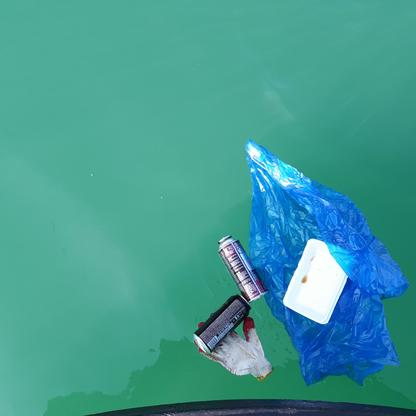can: (216, 233, 268, 302), (193, 288, 248, 353)
foam: (284, 239, 355, 326)
plastic bag: (247, 133, 404, 388)
